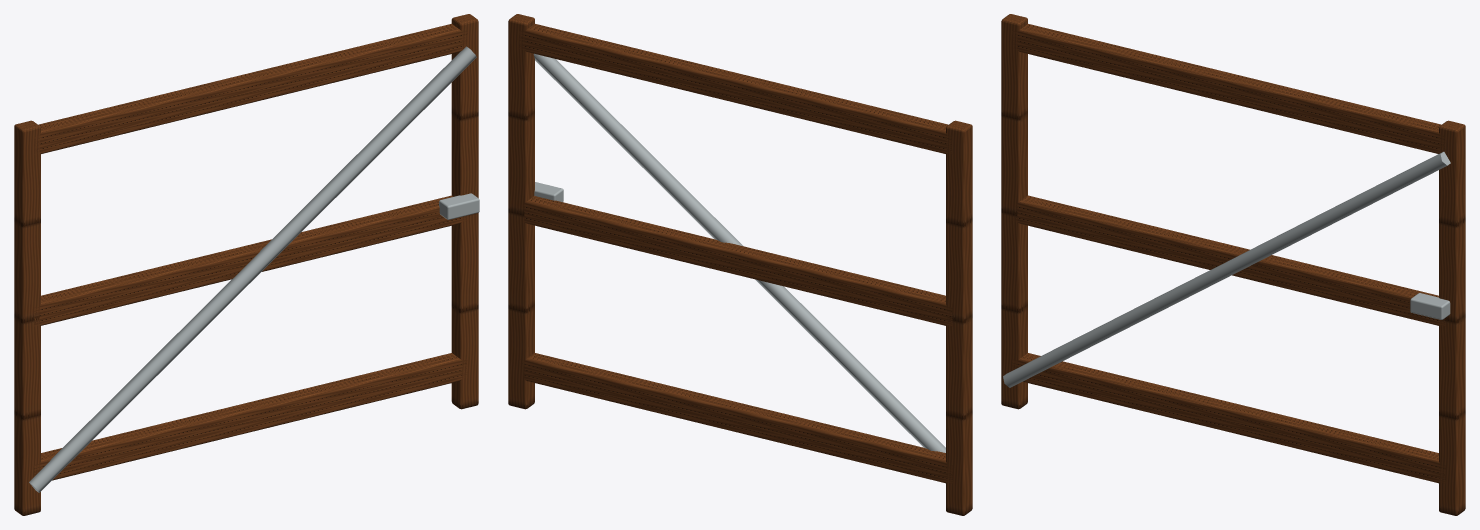
File: creature-husbandry-and-transport-pen-gate-leaf-de6f9b5c__23982.glb
3 renders of one model, left to right at view 1: azimuth 30°, elevation 25°; view 2: azimuth 150°, elevation 25°; view 3: azimuth 330°, elevation 25°, orthographic.
Parts seen in each view (by area): view 1: gate/wood, gate/metal; view 2: gate/wood, gate/metal; view 3: gate/wood, gate/metal.
Part boxes in pixels (x1,y1,x2,y2): gate/wood: (14, 14, 478, 515); gate/metal: (29, 46, 479, 492); gate/wood: (508, 14, 972, 515); gate/metal: (533, 53, 945, 452); gate/wood: (1001, 14, 1465, 515); gate/metal: (1003, 151, 1450, 387).
Bounding box in the file's own units: 1.67 × 1.35 × 0.11.
2 materials, 1 textured.
